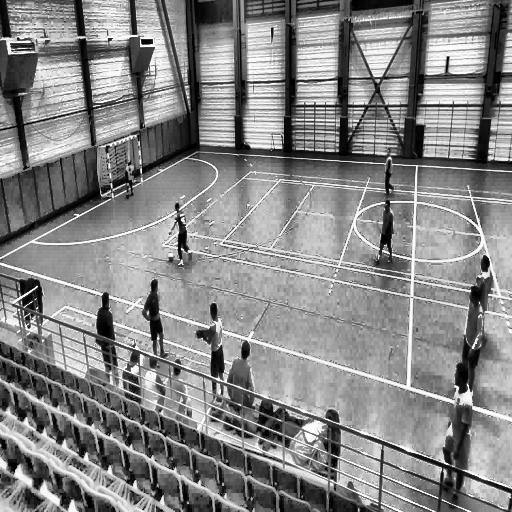ball: (168, 251, 174, 262)
player: (436, 363, 473, 499), (196, 301, 226, 396), (462, 282, 484, 402), (96, 292, 118, 385), (476, 252, 494, 351), (142, 280, 164, 360), (172, 202, 193, 266), (374, 199, 394, 265), (384, 151, 394, 196), (125, 160, 136, 200)
